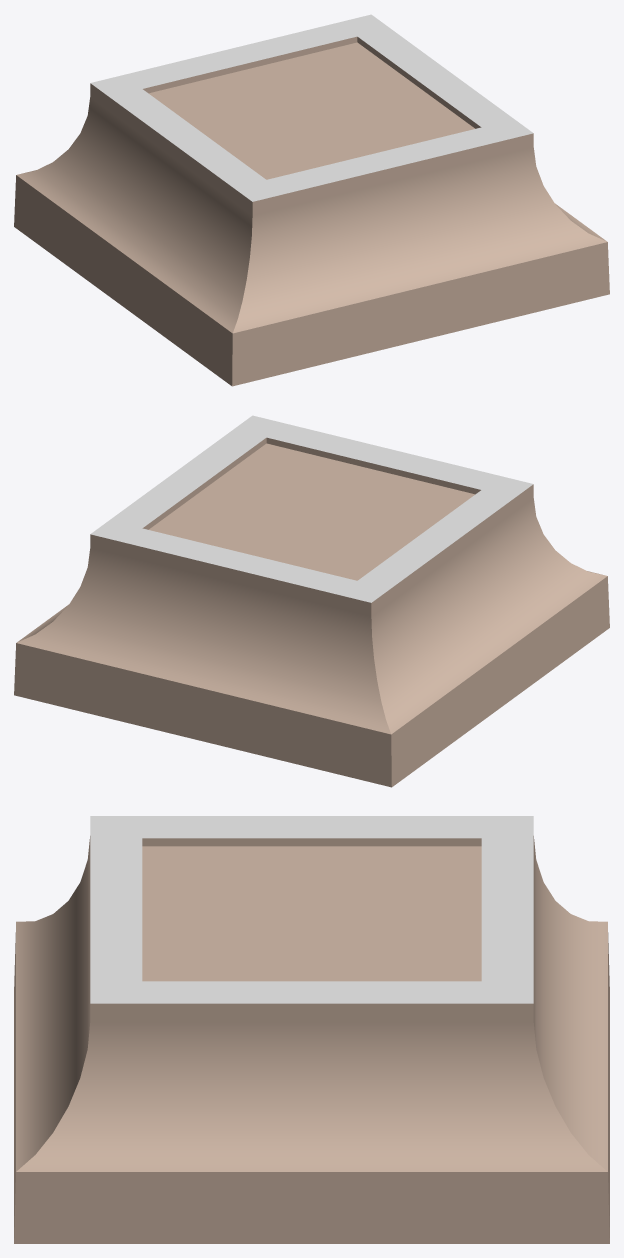
Rendered from BigHouse.fbx.
The picture shows the model from 3 angles, top to bottom: view 1: azimuth 30°, elevation 25°; view 2: azimuth 150°, elevation 25°; view 3: azimuth 270°, elevation 25°; orthographic projection. The views are drawn at different scales.
Parts seen in each view (by area): view 1: DCHouse_single.001; view 2: DCHouse_single.001; view 3: DCHouse_single.001.
Part boxes in pixels (x1,y1,x2,y2): DCHouse_single.001: (14,14,609,386); DCHouse_single.001: (14,415,609,787); DCHouse_single.001: (14,816,609,1243).
Bounding box in the file's own units: 202 × 202 × 77.66.
